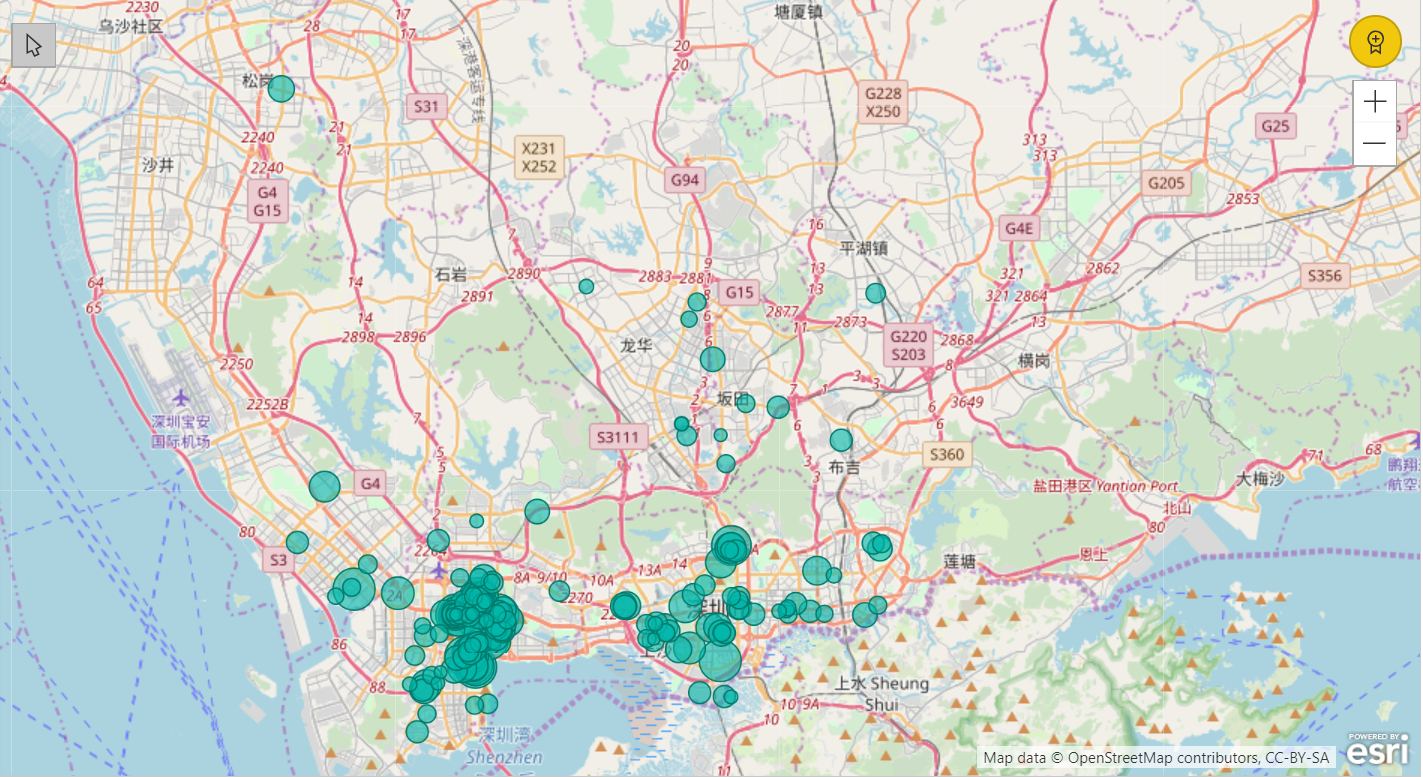

Layout of this report page (visuals, bound fields, positions):
{"tool":"powerbi","page":{"name":"Page 2","canvas":[1280,720],"ordinal":1},"visuals":[{"type":"esriVisual","fields":{"Latitude":["salaries of lagou data analyst.latitude"],"Longitude":["salaries of lagou data analyst.longitude"],"Size":["Sum(salaries of lagou data analyst.salary_min)"]},"box":[10.6,0,1127,719.8],"z":1}]}

Visuals, with their boxes on the page's 1280x720 design canvas (x1, y1, x2, y2). These are canvas units, not pixel positions in the 1423x777 screenshot, which may show the page scaled, cropped or inside an application window:
esriVisual - salaries of lagou data analyst.latitude x salaries of lagou data analyst.longitude: <bbox>11, 0, 1138, 720</bbox>
